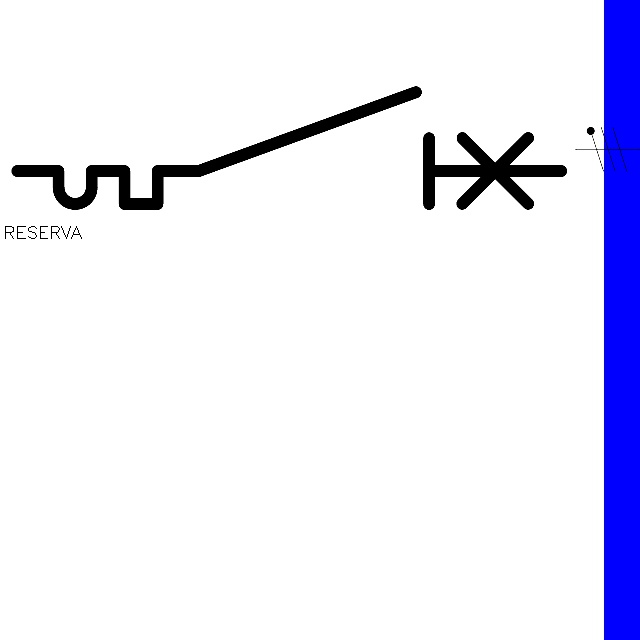interruptor_termomagnetico: (3, 78, 575, 218)
